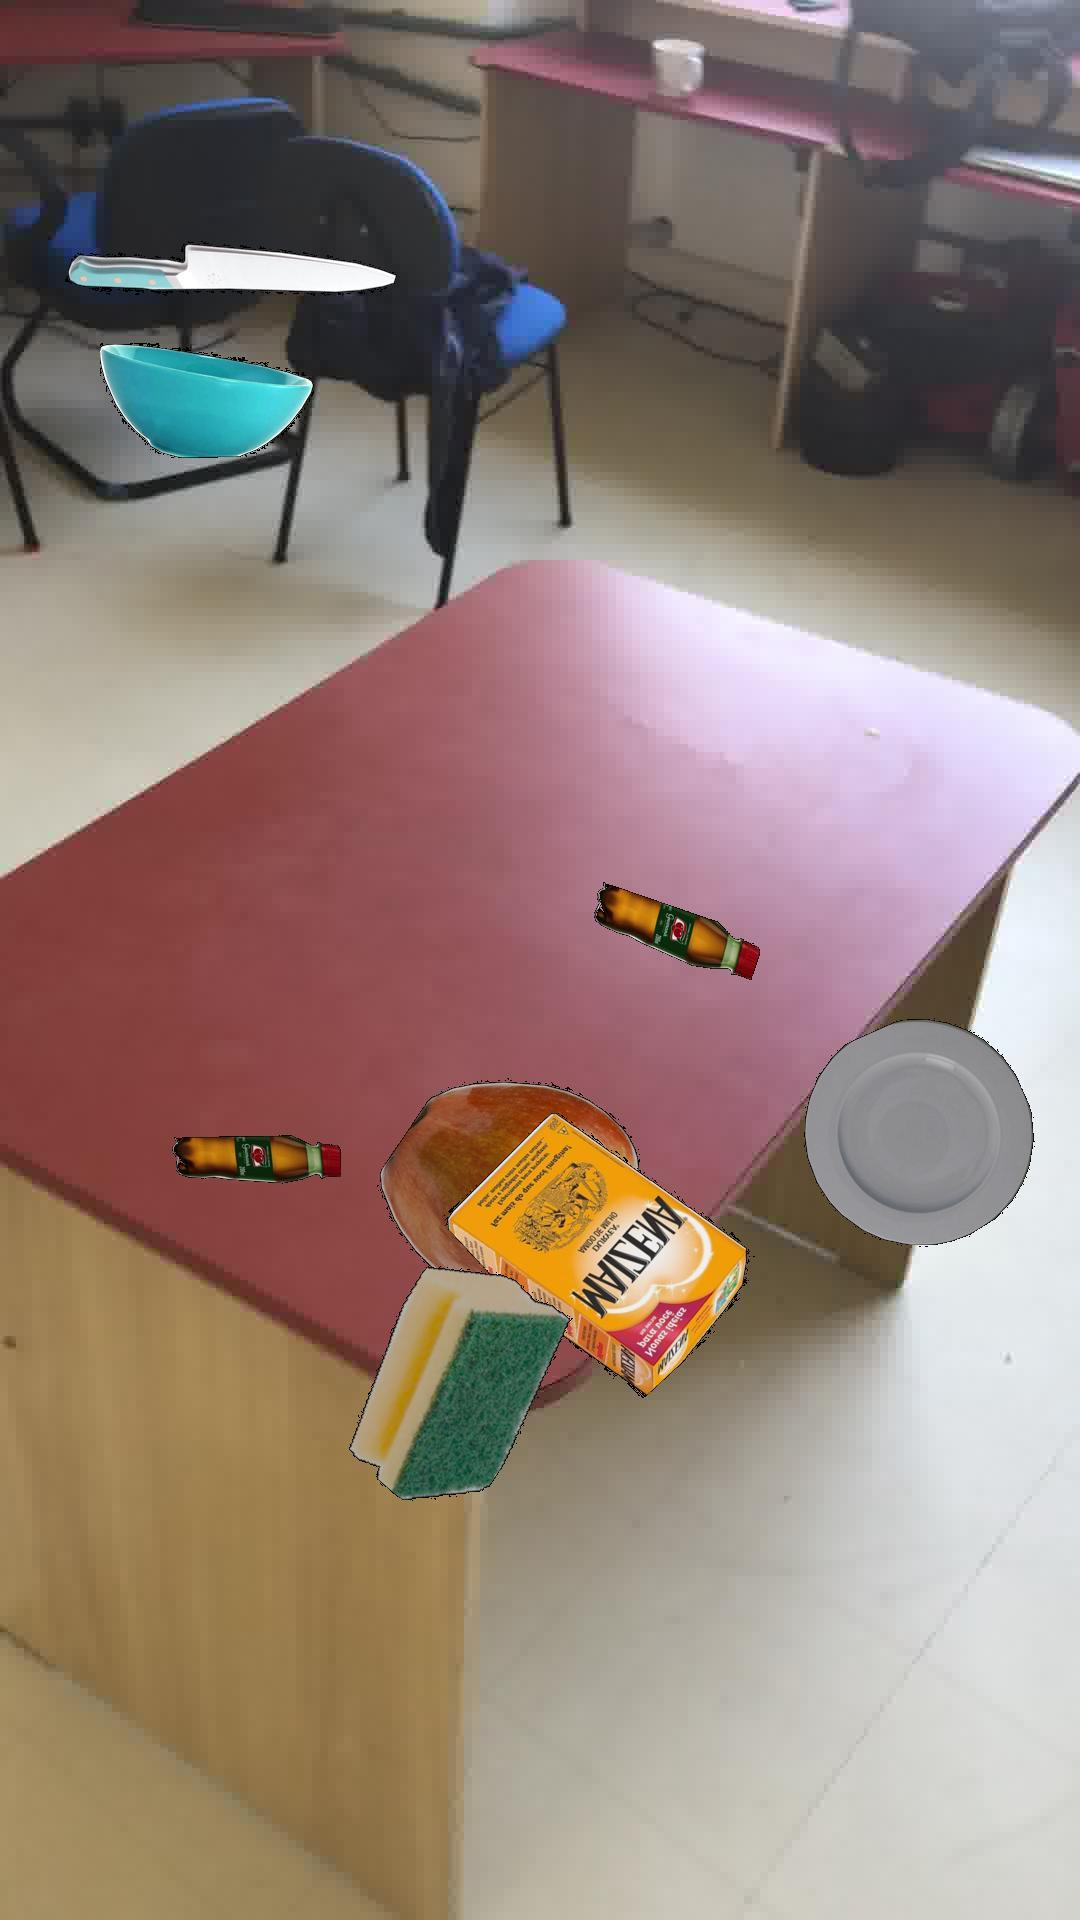apple: (380, 1080, 638, 1273)
bowl: (99, 342, 311, 456)
guarana: (592, 881, 758, 978), (170, 1134, 339, 1183)
knife: (66, 243, 396, 294)
plate: (803, 1018, 1034, 1244)
sponge: (348, 1265, 570, 1498)
